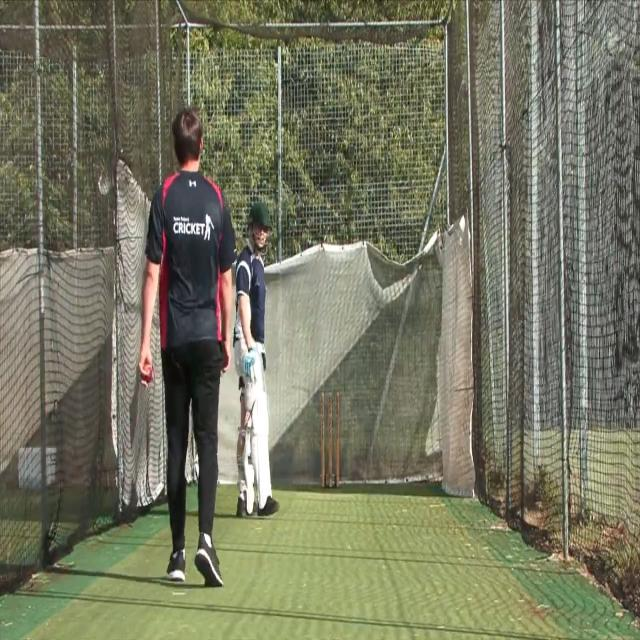batsman: (231, 198, 281, 520)
